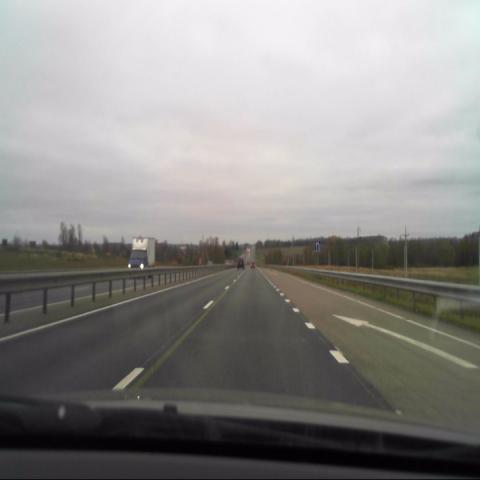5_15_5: (315, 239, 321, 253)
